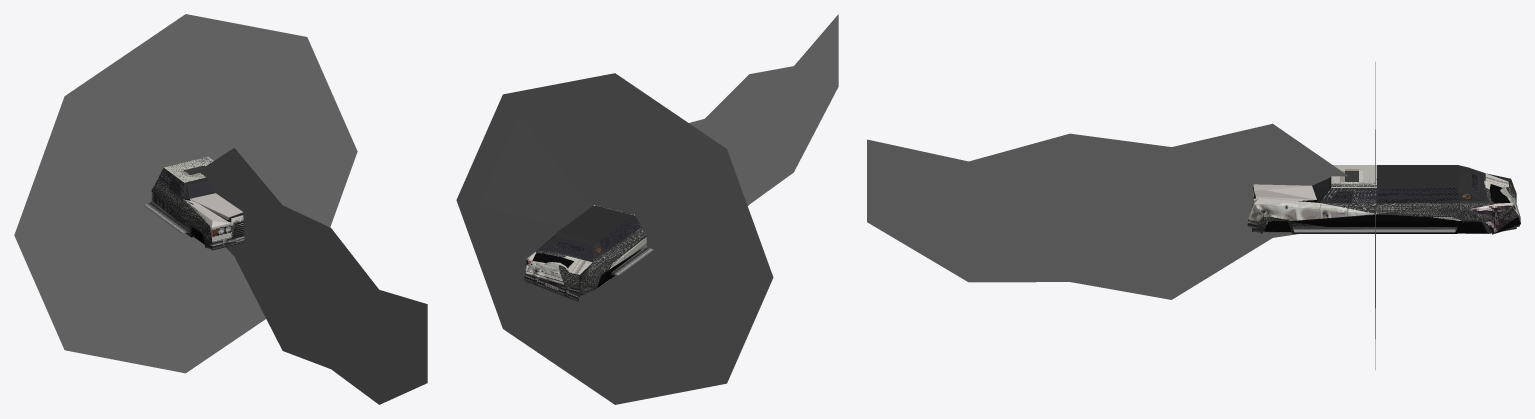
The model's file is v82_excelsior_stretch.obj.
3 views of the same model, side by side, from view 1: azimuth 30°, elevation 25°; view 2: azimuth 150°, elevation 25°; view 3: azimuth 270°, elevation 25° (orthographic). The views are drawn at different scales.
Visible parts, largest first — view 1: v82_excelsior_stretch_tmd_017, v82_excelsior_stretch_tmd_016, v82_excelsior_stretch_tmd_015, v82_excelsior_stretch_tmd_000, v82_excelsior_stretch_tmd_007, v82_excelsior_stretch_tmd_001, v82_excelsior_stretch_tmd_011; view 2: v82_excelsior_stretch_tmd_016, v82_excelsior_stretch_tmd_017, v82_excelsior_stretch_tmd_015, v82_excelsior_stretch_tmd_007, v82_excelsior_stretch_tmd_003, v82_excelsior_stretch_tmd_005, v82_excelsior_stretch_tmd_004, v82_excelsior_stretch_tmd_014, v82_excelsior_stretch_tmd_011; view 3: v82_excelsior_stretch_tmd_015, v82_excelsior_stretch_tmd_007, v82_excelsior_stretch_tmd_001, v82_excelsior_stretch_tmd_014, v82_excelsior_stretch_tmd_003, v82_excelsior_stretch_tmd_004, v82_excelsior_stretch_tmd_000, v82_excelsior_stretch_tmd_011, v82_excelsior_stretch_tmd_005.
Part boxes in pixels (x1=…): v82_excelsior_stretch_tmd_017: x1=14, y1=14, x2=357, y2=373; v82_excelsior_stretch_tmd_016: x1=39, y1=40, x2=256, y2=347; v82_excelsior_stretch_tmd_015: x1=198, y1=148, x2=427, y2=404; v82_excelsior_stretch_tmd_000: x1=151, y1=157, x2=244, y2=248; v82_excelsior_stretch_tmd_007: x1=151, y1=157, x2=244, y2=250; v82_excelsior_stretch_tmd_001: x1=154, y1=182, x2=244, y2=242; v82_excelsior_stretch_tmd_011: x1=143, y1=200, x2=190, y2=233; v82_excelsior_stretch_tmd_016: x1=478, y1=97, x2=749, y2=381; v82_excelsior_stretch_tmd_017: x1=456, y1=73, x2=773, y2=404; v82_excelsior_stretch_tmd_015: x1=689, y1=14, x2=838, y2=205; v82_excelsior_stretch_tmd_007: x1=555, y1=205, x2=646, y2=288; v82_excelsior_stretch_tmd_003: x1=526, y1=227, x2=645, y2=294; v82_excelsior_stretch_tmd_005: x1=524, y1=228, x2=643, y2=300; v82_excelsior_stretch_tmd_004: x1=524, y1=235, x2=639, y2=301; v82_excelsior_stretch_tmd_014: x1=532, y1=248, x2=642, y2=278; v82_excelsior_stretch_tmd_011: x1=611, y1=245, x2=653, y2=275; v82_excelsior_stretch_tmd_015: x1=867, y1=123, x2=1348, y2=299; v82_excelsior_stretch_tmd_007: x1=1252, y1=165, x2=1508, y2=233; v82_excelsior_stretch_tmd_001: x1=1247, y1=184, x2=1376, y2=229; v82_excelsior_stretch_tmd_014: x1=1259, y1=184, x2=1520, y2=233; v82_excelsior_stretch_tmd_003: x1=1376, y1=167, x2=1516, y2=233; v82_excelsior_stretch_tmd_004: x1=1376, y1=187, x2=1519, y2=234; v82_excelsior_stretch_tmd_000: x1=1252, y1=177, x2=1376, y2=233; v82_excelsior_stretch_tmd_011: x1=1292, y1=226, x2=1457, y2=232; v82_excelsior_stretch_tmd_005: x1=1466, y1=186, x2=1520, y2=233.
Bounding box in the file's own units: 3.28 × 3.28 × 5.15.
Materials: 42 (33 with a texture image).
